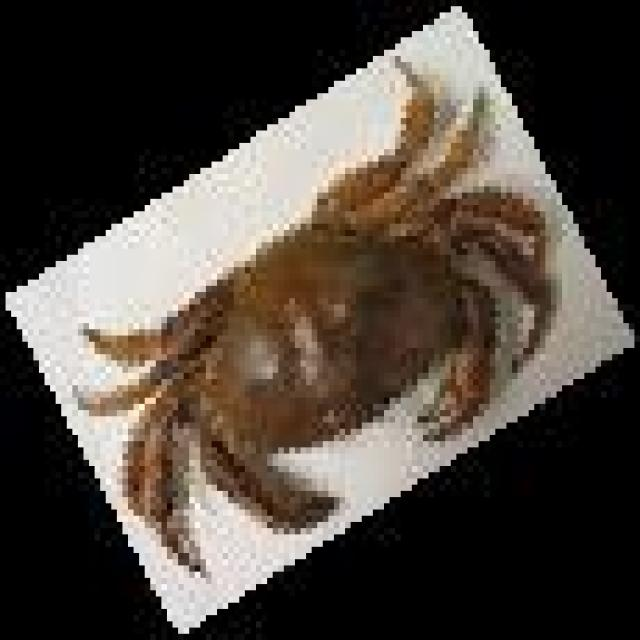Native Rock crab: (78, 62, 551, 565)
